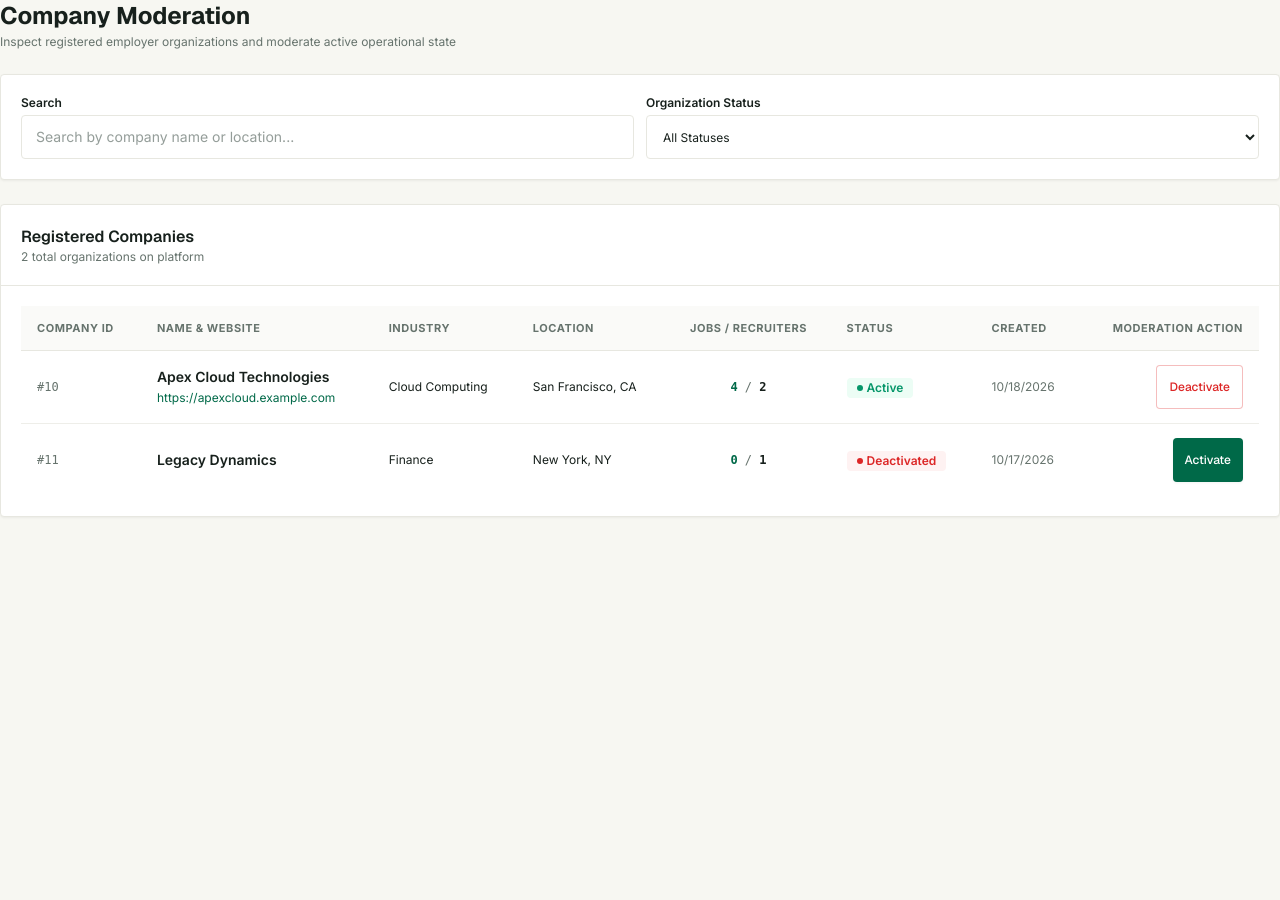
Test: AdminCompaniesPage Component › handles activation for inactive company
Expected: the text "Legacy Dynamics" is shown, x1=157 y1=451 x2=277 y2=468
What coordinates should you click on to do the following:
click the button "Activate"
I would click on:
 (1208, 460)
Its box is x1=1173 y1=438 x2=1243 y2=482.
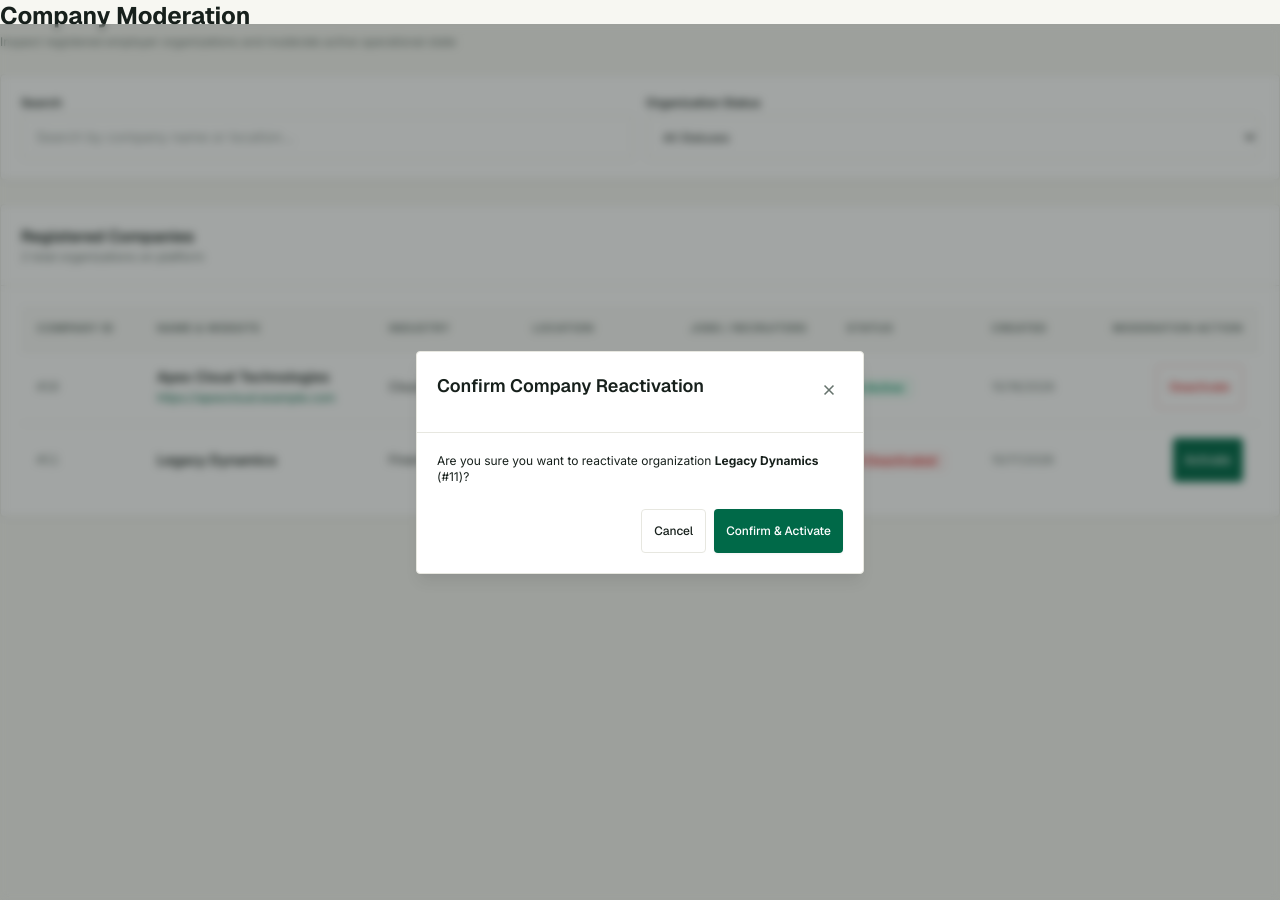
Expected: the heading "Confirm Company Reactivation" is shown, x1=437 y1=372 x2=704 y2=400
What coordinates should you click on to do the following:
click the button "Confirm & Activate"
I would click on:
 (779, 530)
Its box is x1=714 y1=508 x2=843 y2=552.
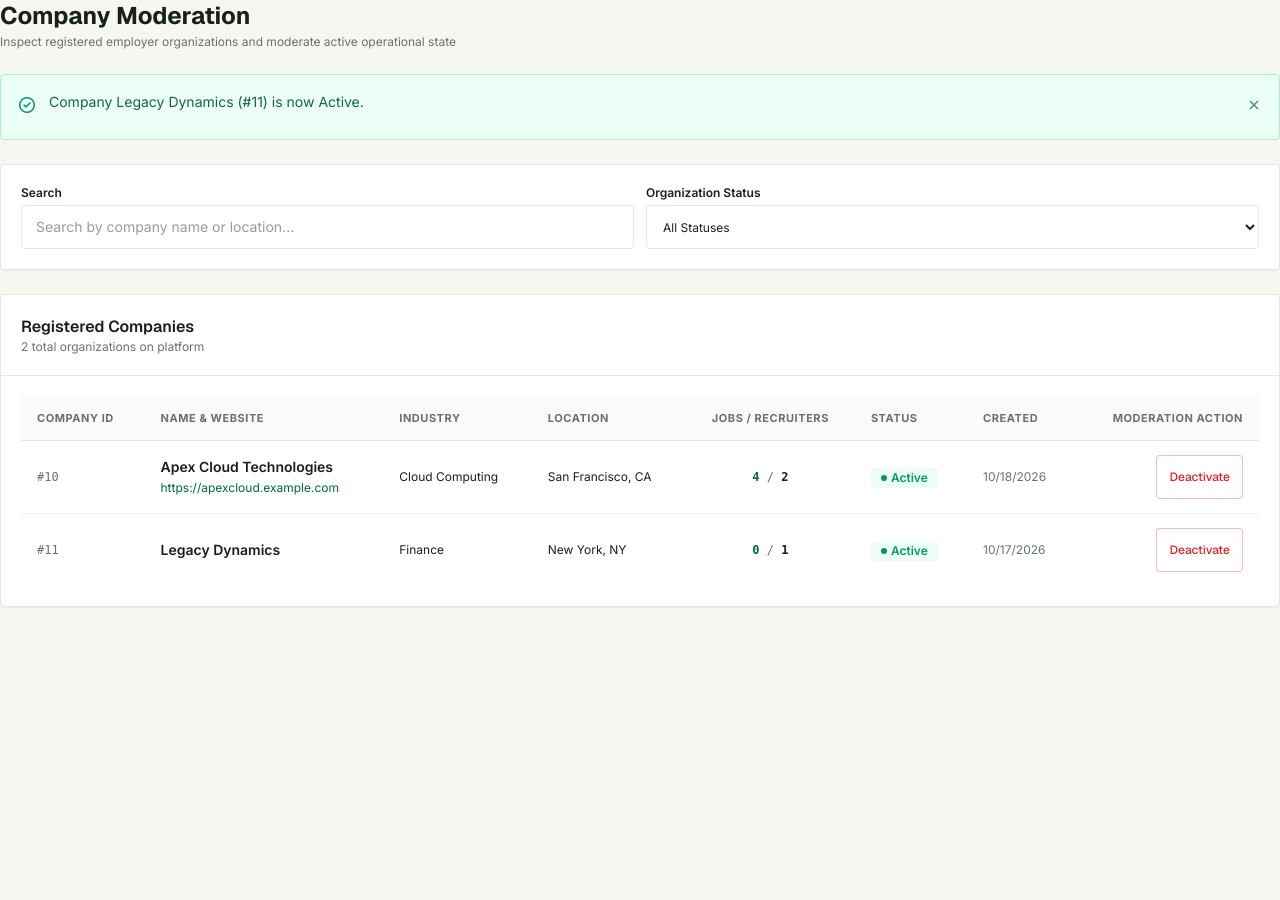
Expected: the text "Company Legacy Dynamics (#11) is now Active." is shown, x1=49 y1=93 x2=364 y2=110
